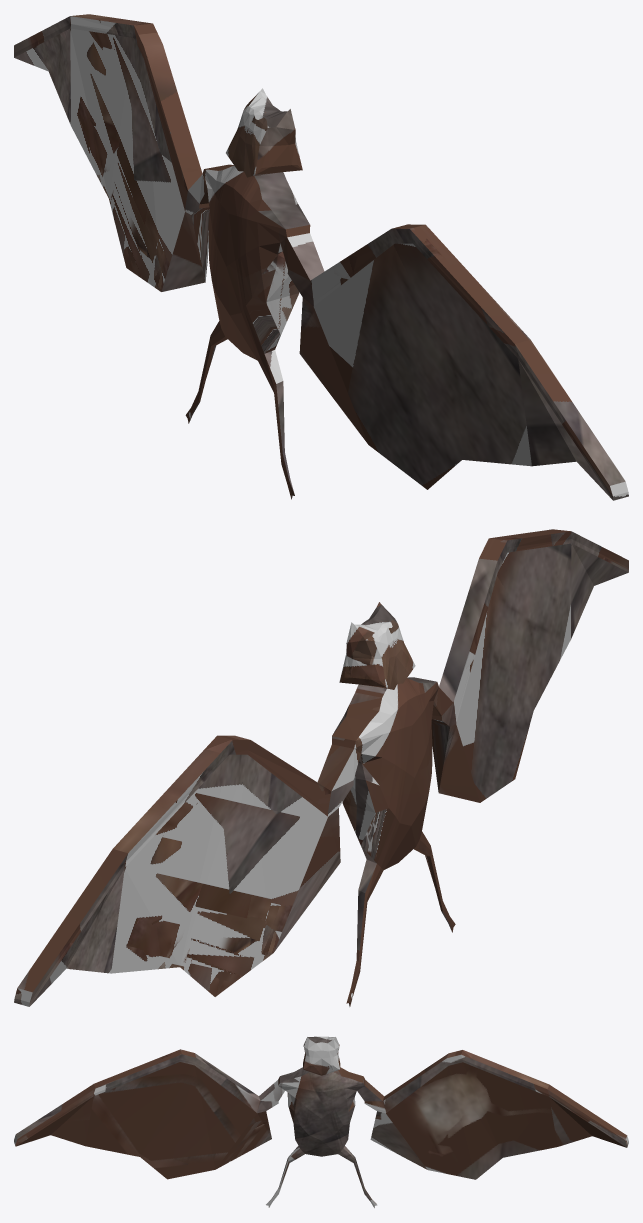
The model's file is Enemigo128.obj.
The picture shows the model from 3 angles, top to bottom: view 1: azimuth 30°, elevation 25°; view 2: azimuth 150°, elevation 25°; view 3: azimuth 270°, elevation 25°; orthographic projection. The views are drawn at different scales.
Parts seen in each view (by area): view 1: Plano; view 2: Plano; view 3: Plano.
Boxes of the visible parts, x1,y1,x2,y2 form: Plano: [14, 14, 628, 500]; Plano: [14, 529, 628, 1006]; Plano: [14, 1036, 628, 1207].
Bounding box in the file's own units: 0.2378 × 0.7554 × 2.33.
Materials: 1 (1 with a texture image).
